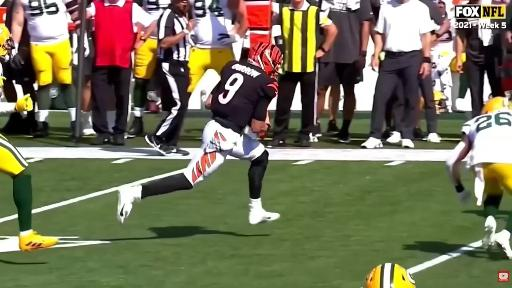Helmet: (366, 263, 415, 287), (248, 43, 282, 77), (481, 97, 511, 114), (0, 24, 14, 58)
Jersey: (211, 61, 277, 132), (462, 110, 511, 166), (189, 0, 233, 48), (20, 0, 69, 43), (432, 25, 455, 53), (143, 0, 170, 19)
Player: (118, 43, 282, 224), (447, 97, 511, 258), (12, 0, 77, 137), (0, 135, 57, 251), (188, 0, 248, 93), (128, 30, 157, 137), (431, 28, 455, 111), (366, 263, 415, 287)
